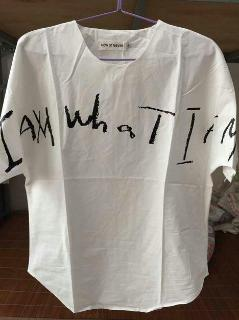short sleeve top: (0, 19, 239, 314)
